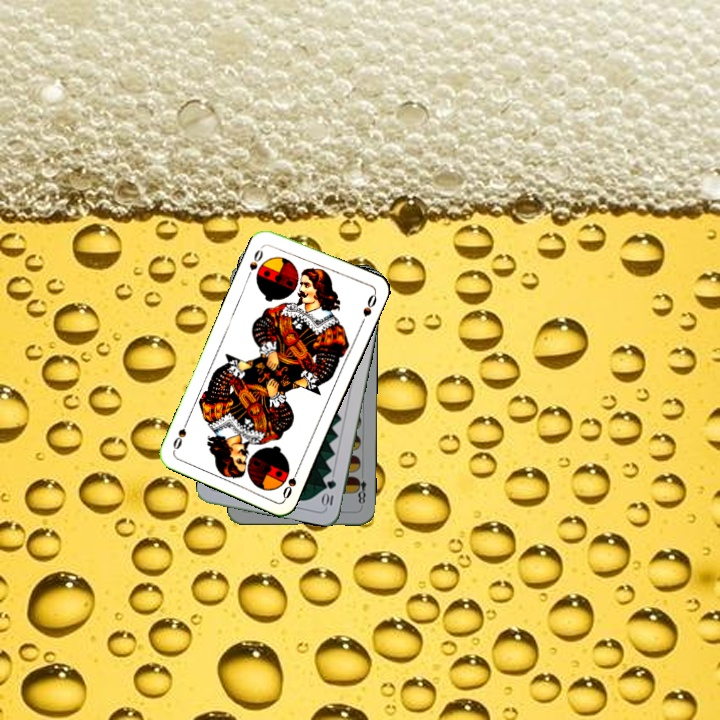E8: (352, 473, 369, 509)
G10: (319, 476, 339, 510)
SO: (278, 463, 302, 501), (243, 245, 265, 280)
